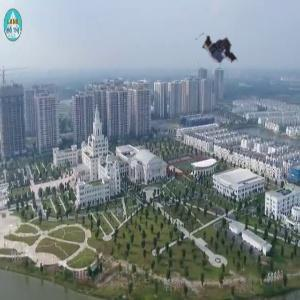drone: (192, 26, 245, 79)
